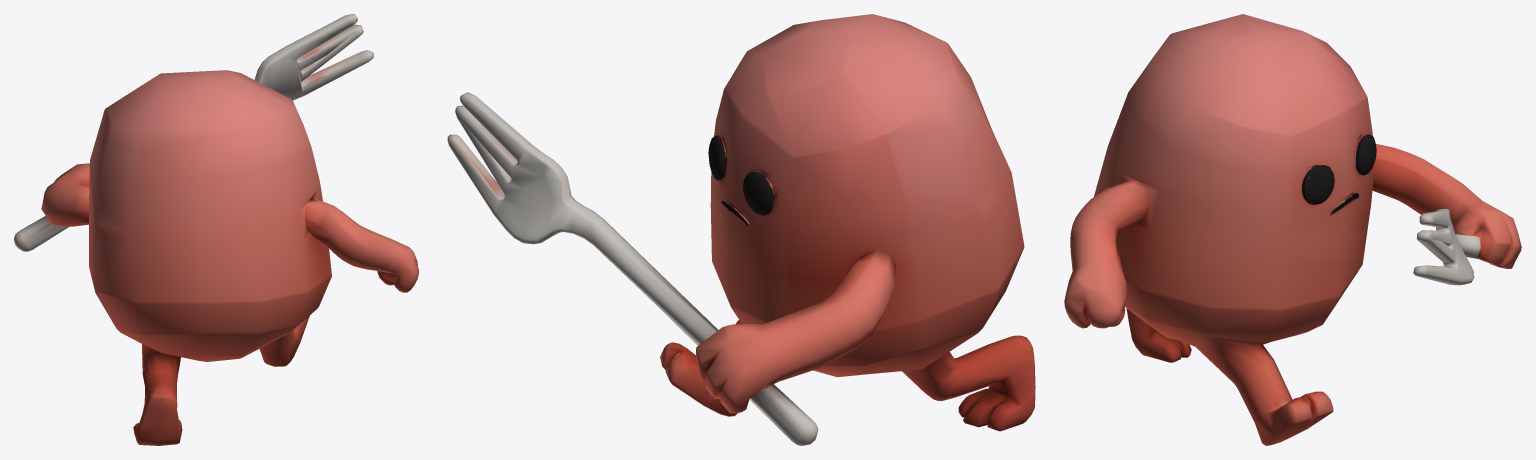
File: fork_imp.glb
3 views of the same model, side by side, from view 1: azimuth 30°, elevation 25°; view 2: azimuth 150°, elevation 25°; view 3: azimuth 270°, elevation 25° (orthographic). The views are drawn at different scales.
Parts seen in each view (by area): view 1: material; view 2: material; view 3: material.
Part boxes in pixels (x1=…): material: x1=14, y1=14, x2=418, y2=445; material: x1=447, y1=14, x2=1035, y2=445; material: x1=1064, y1=14, x2=1521, y2=445.
Size of the model in its own units: 1.9 by 1.6 by 1.83.
Materials: 1 (1 with a texture image).
